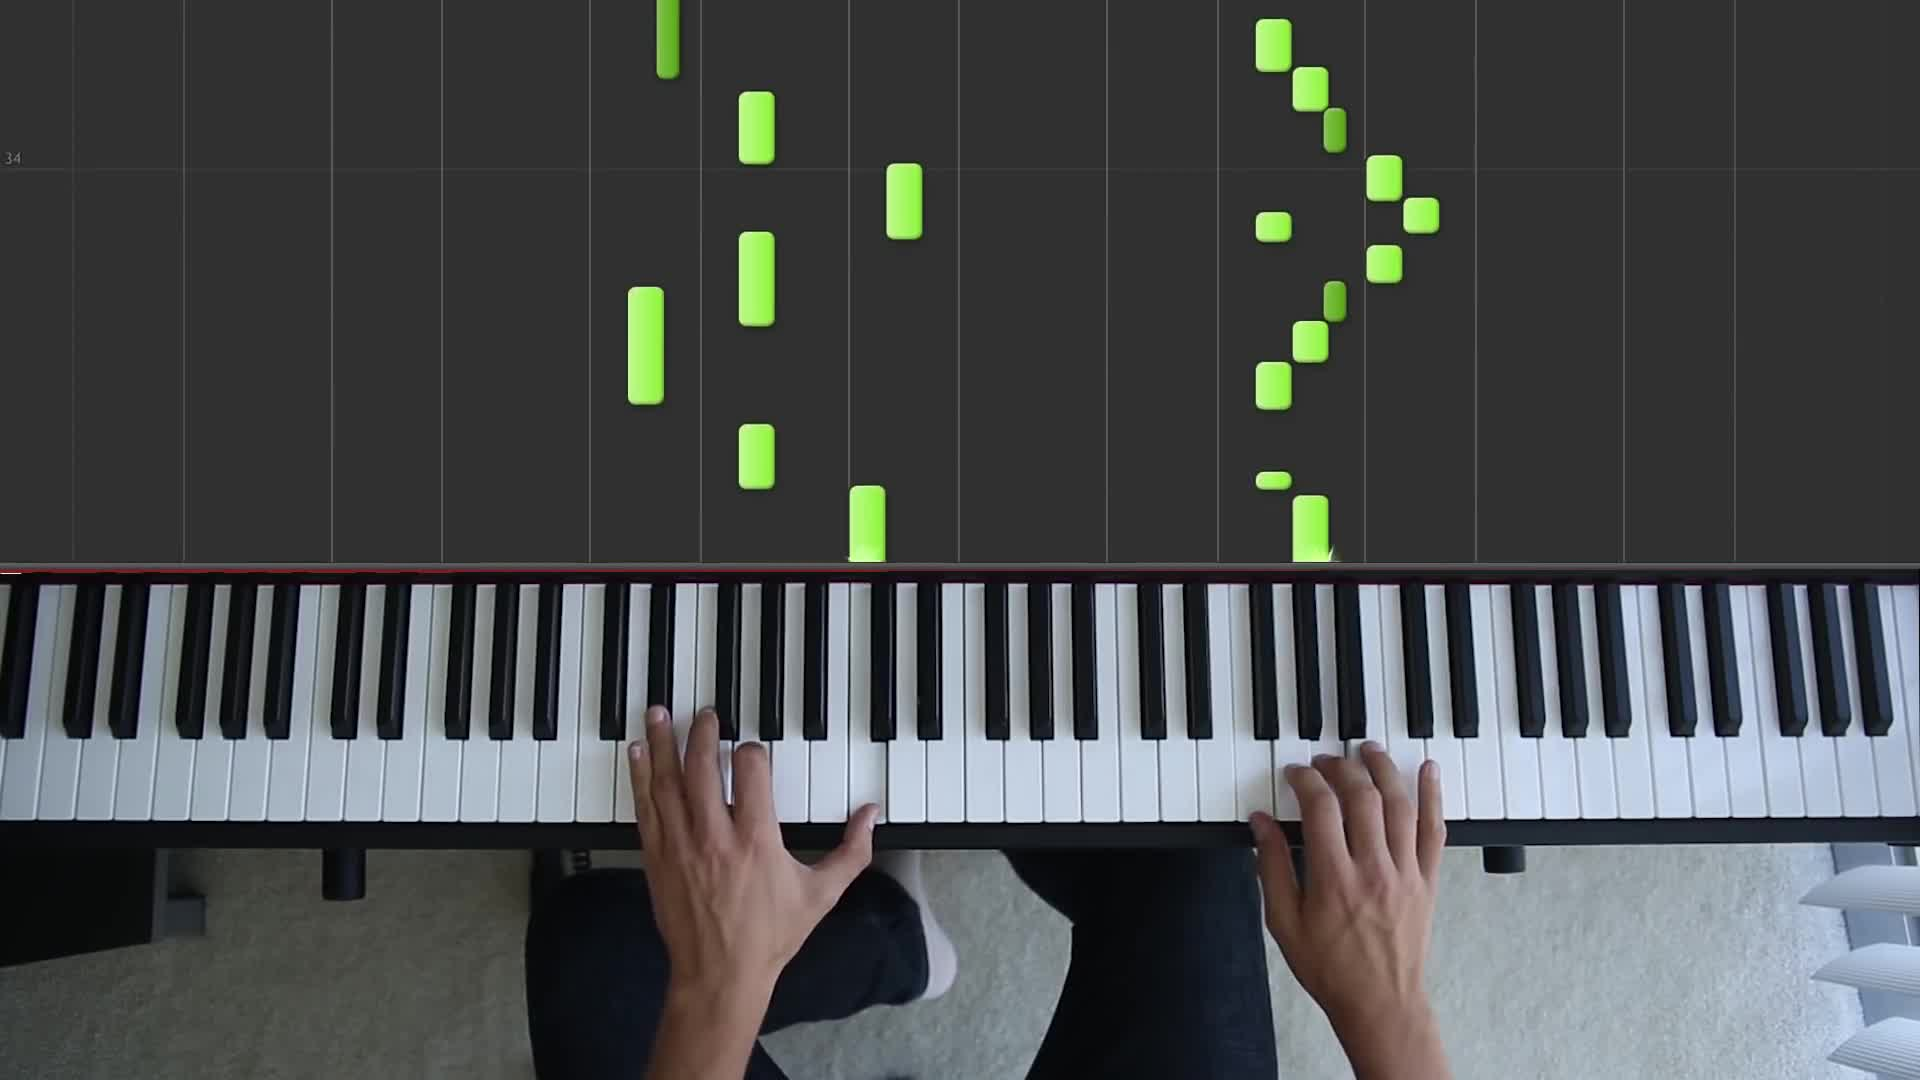left: (628, 705, 877, 960)
right: (1251, 742, 1445, 997)
